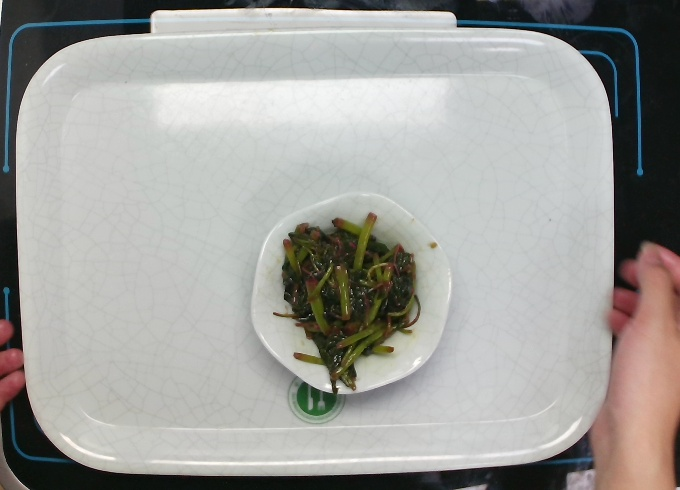WCQzf-Hua_Duo_Wan: (245, 182, 457, 399)
